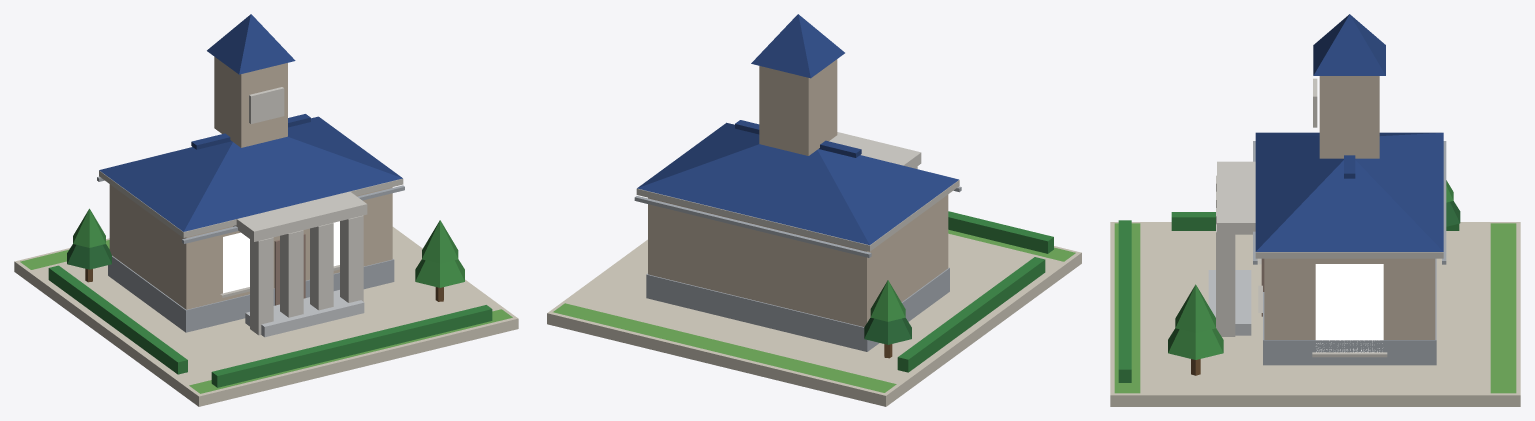
3 views of the same model, side by side, from view 1: azimuth 30°, elevation 25°; view 2: azimuth 150°, elevation 25°; view 3: azimuth 270°, elevation 25° (orthographic). The views are drawn at different scales.
Parts seen in each view (by area): view 1: b21; view 2: b21; view 3: b21.
Part boxes in pixels (left/top/right/bottom): b21: left=14, top=14, right=518, bottom=406; b21: left=547, top=14, right=1081, bottom=406; b21: left=1110, top=14, right=1520, bottom=406.
Size of the model in its own units: 0.96 by 0.79 by 0.96.
